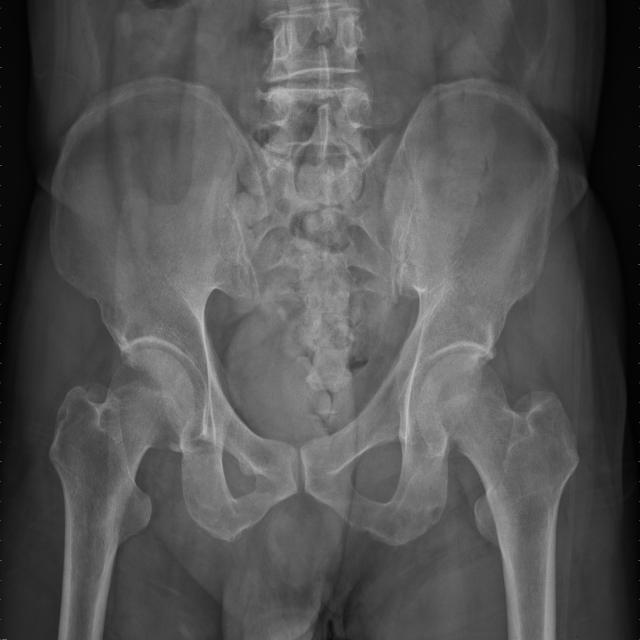normal-left: (417, 353, 579, 640)
normal-right: (50, 349, 196, 640)
